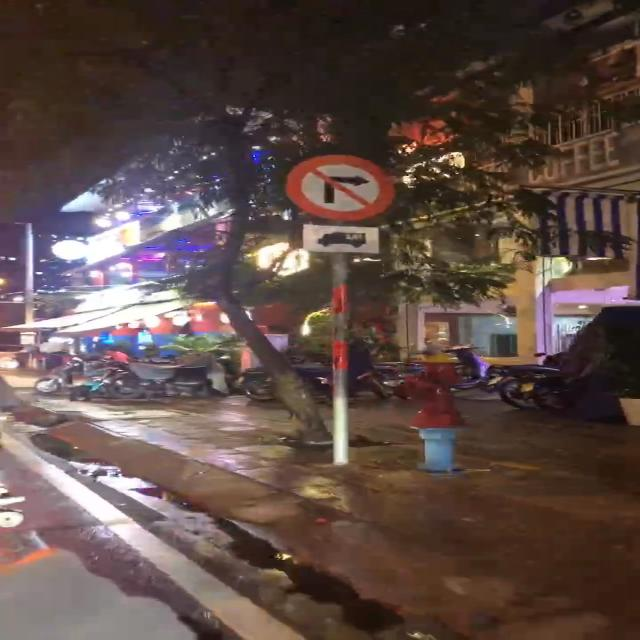Bien bao cam re phai: (280, 151, 404, 222)
